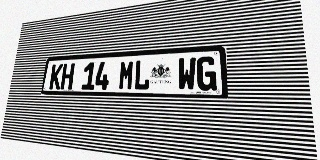1: (81, 62, 97, 90)
4: (94, 61, 110, 90)
G: (197, 56, 217, 91)
H: (60, 63, 75, 90)
K: (49, 64, 63, 89)
L: (133, 59, 151, 90)
M: (118, 60, 135, 90)
W: (177, 57, 196, 91)
